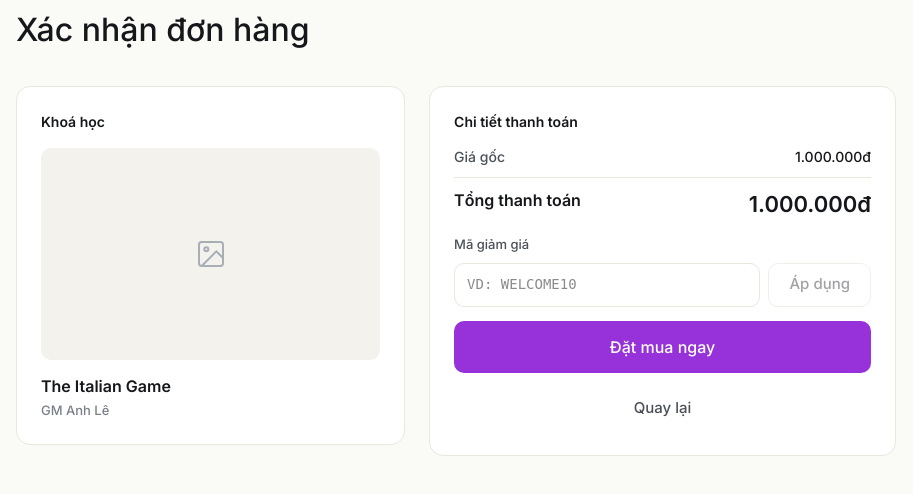
it: ConfirmPurchasePage › renders the applied banner with code + discount amount after successful apply
The width and height of the screenshot is (913, 494).
In the field with test id "voucher-input": [607, 284] box [454,262,760,306], type "WELCOME10"
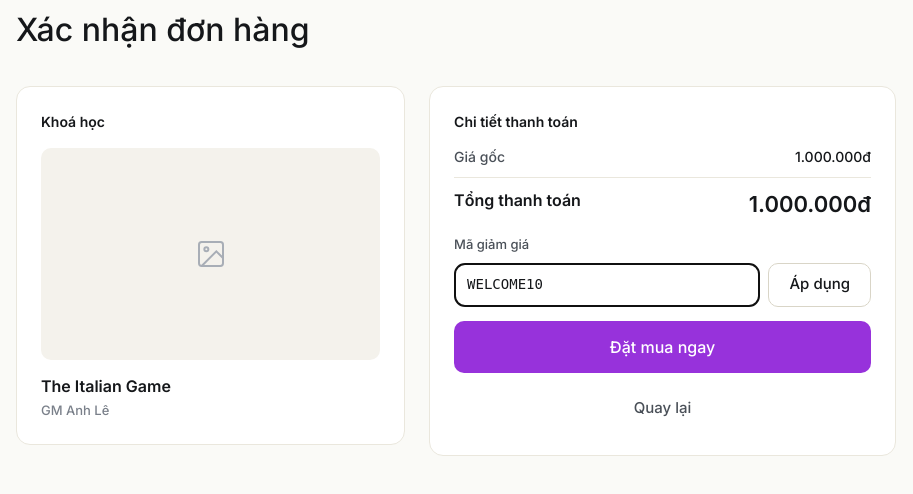
Click the button with test id "voucher-apply-btn": [820, 284] box [768,262,871,306]
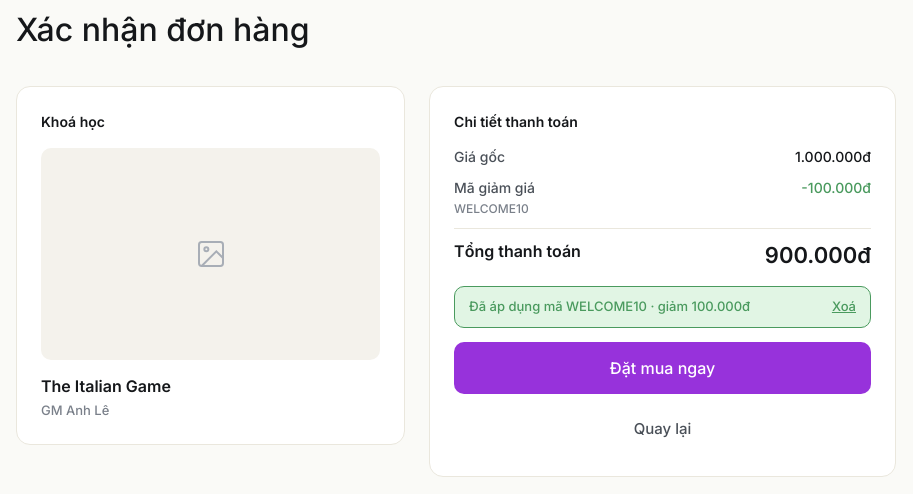
expect the element with test id "voucher-applied-banner" is shown: met, box [454,286,871,328]
expect the element with test id "voucher-applied-banner" shows "WELCOME10": met, box [469,298,750,314]
expect the element with test id "voucher-applied-banner" shows "100.000": met, box [469,298,750,314]
